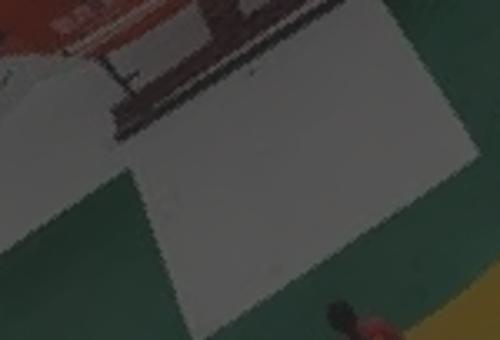Apron: (3, 4, 496, 338)
